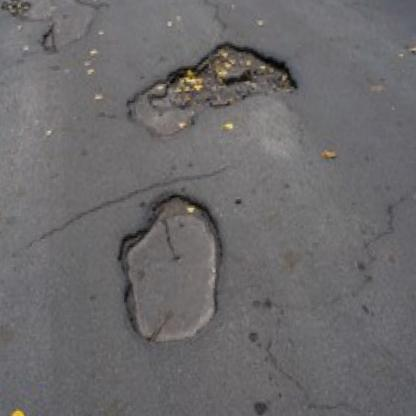pothole: (108, 187, 231, 349), (121, 35, 305, 142), (6, 0, 107, 60)
